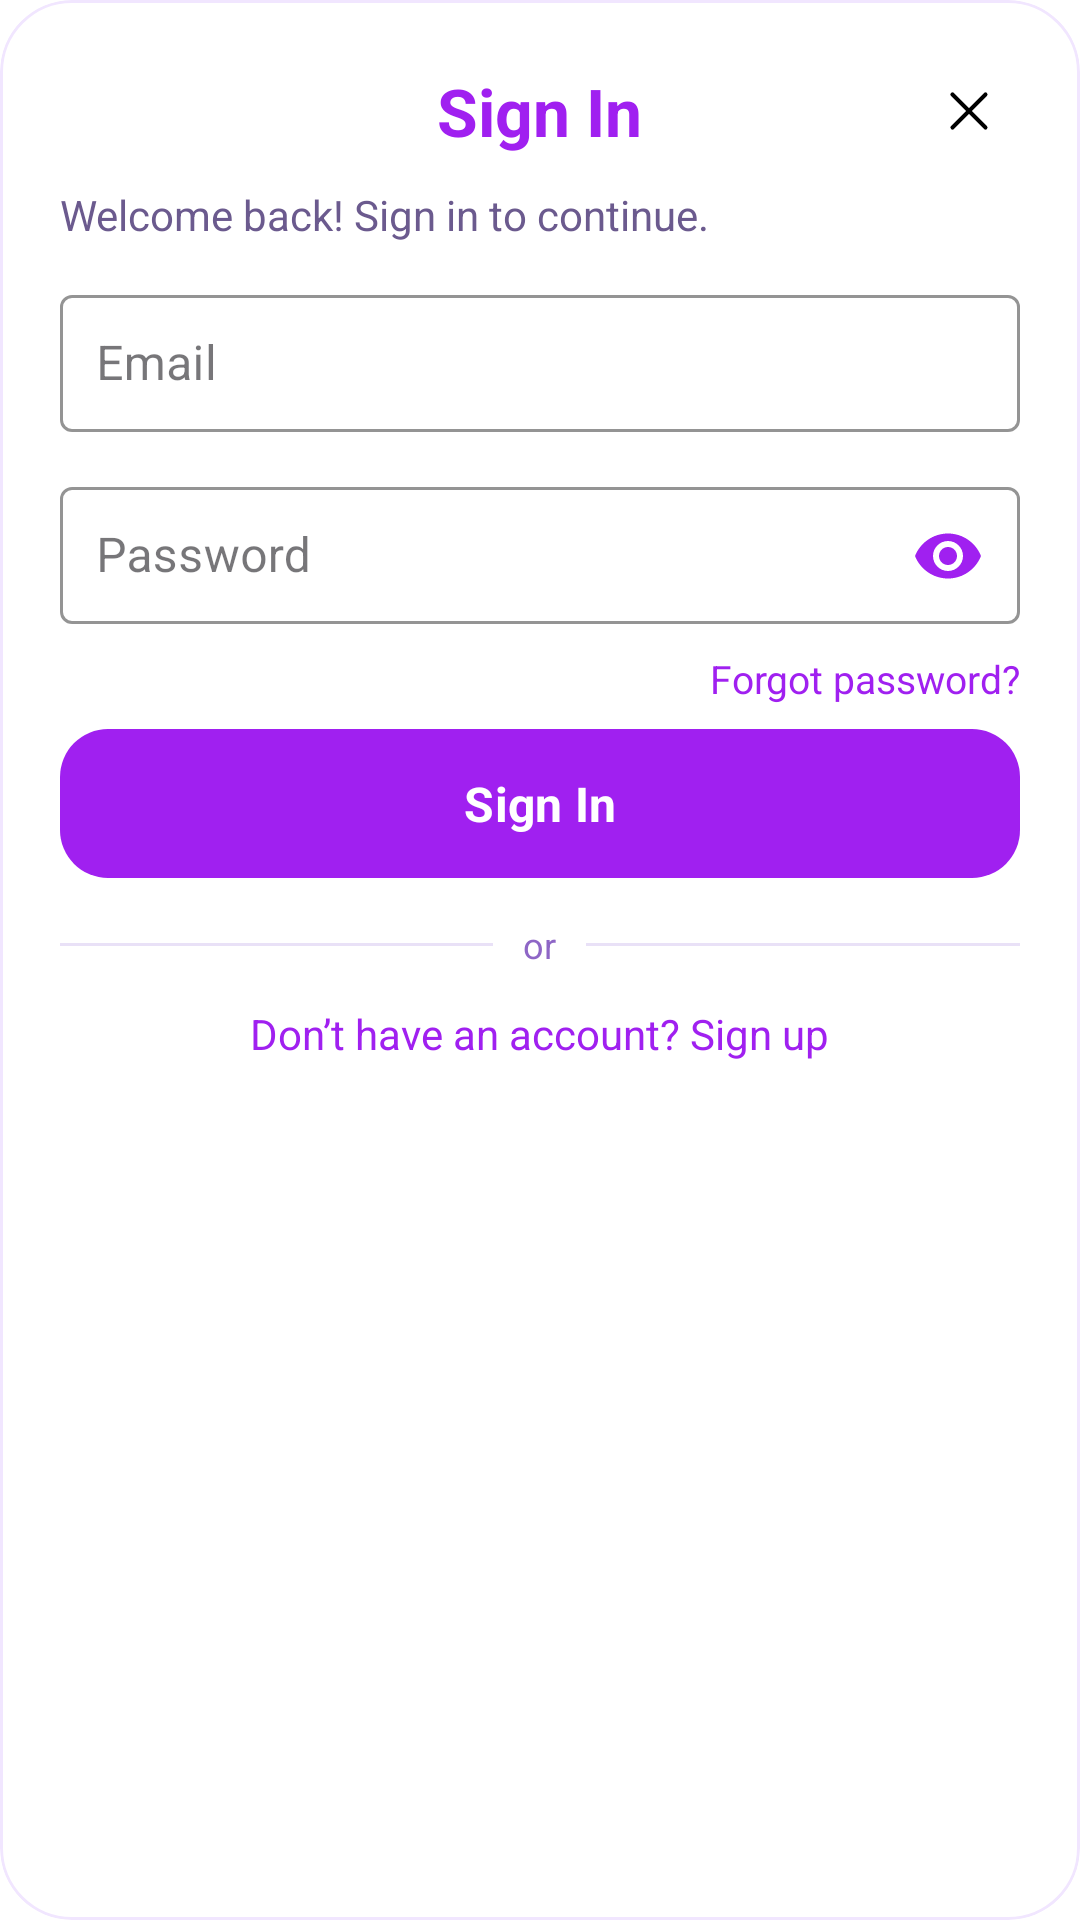

Where icons sit on this 1080 × 1920 app screen, as [left=x1, top=y1, right=x2, bottom=y2]:
Close: [left=950, top=92, right=988, bottom=130]
